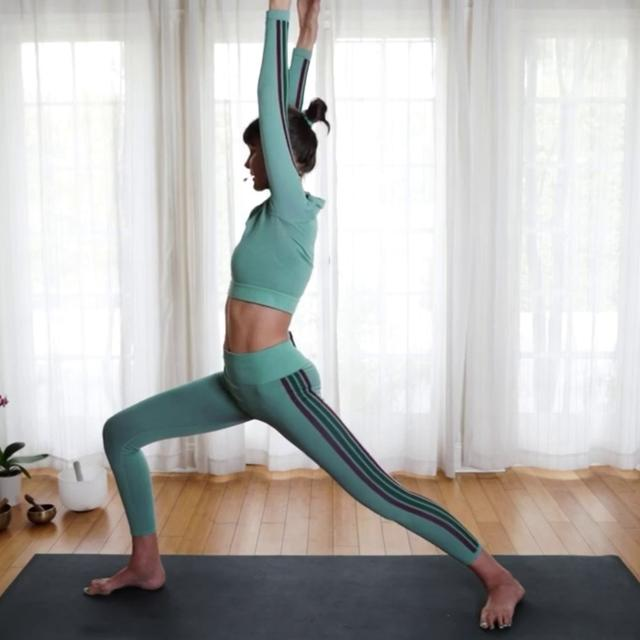Warrior_I: (78, 2, 528, 640)
